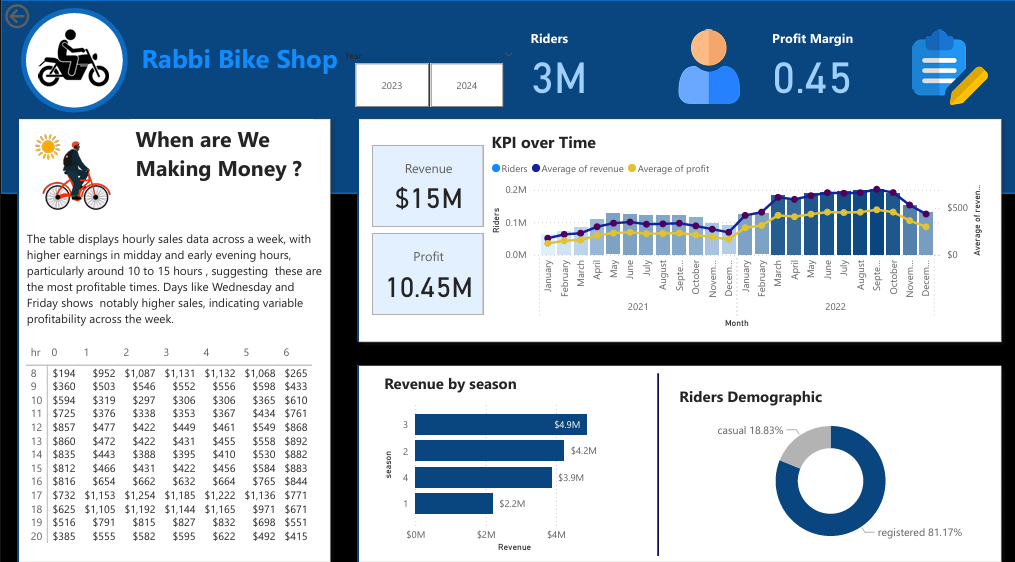

This screenshot's page, from the dashboard's own definition file:
{"tool":"powerbi","page":{"name":"Page 1","canvas":[1280,720],"ordinal":0},"visuals":[{"type":"shape","box":[0,0,1269.5,240.5],"z":0},{"type":"cardVisual","fields":{"Data":["Query1.riders"]},"box":[3.9,131.4,425.5,588.2],"z":1000},{"type":"cardVisual","fields":{"Data":["Query1.riders"]},"box":[429.4,131.4,839.2,313.7],"z":2000},{"type":"cardVisual","fields":{"Data":["Query1.riders"]},"box":[19.6,149,143.1,127.5],"z":3000},{"type":"pivotTable","fields":{"Values":["Query1.revenue"],"Columns":["Query1.weekday"],"Rows":["Query1.hr"]},"box":[26.7,425,381.7,273.3],"z":4000},{"type":"cardVisual","fields":{"Data":["Query1.riders"]},"box":[429.4,439.2,839.2,280.4],"z":5000},{"type":"textbox","box":[162.7,149,227.5,109.8],"z":6000},{"type":"textbox","box":[27.5,282.4,380.4,143.1],"z":7000},{"type":"lineClusteredColumnComboChart","title":"KPI over Time","fields":{"Y":["Query1.riders"],"Category":["Query1.dteday.Variation.Date Hierarchy.Year","Query1.dteday.Variation.Date Hierarchy.Month"],"Y2":["Query1.revenue","Query1.profit"]},"box":[607.8,162.7,623.5,251],"z":8000},{"type":"actionButton","box":[0,0,100,40],"z":9000},{"type":"clusteredBarChart","fields":{"Category":["Query1.season"],"Y":["Query1.revenue"]},"box":[473.8,466.2,309.2,227.7],"z":10000},{"type":"donutChart","title":"Riders  Demographic","fields":{"Category":["Query1.rider_type"],"Y":["Query1.riders"]},"box":[843.1,482.4,388.2,211.8],"z":11000},{"type":"shape","box":[800,466.2,43.1,227.7],"z":12000},{"type":"cardVisual","fields":{"Data":["Query1.revenue","Query1.profit"]},"box":[458.8,176.5,149,223.5],"z":13000},{"type":"cardVisual","fields":{"Data":["Query1.riders","Query1.Profit Margin"]},"box":[645.1,19.6,607.8,119.6],"z":14000},{"type":"shape","box":[25,10,133.3,130],"z":15000},{"type":"image","box":[41.7,20,98.3,103.3],"z":16000},{"type":"textbox","box":[163.3,45,270,60],"z":17000},{"type":"slicer","fields":{"Values":["Query1.Custom"]},"box":[416.7,58.3,235,81.7],"z":18000}]}

Visuals, with their boxes in screenshot pixels (x1, y1, x2, y2), scaled from the page's 1280x720 canvas onto the 1015x562 screenshot:
shape: 0, 0, 1007, 188
cardVisual - Query1.riders: 3, 103, 341, 561
cardVisual - Query1.riders: 341, 103, 1006, 347
cardVisual - Query1.riders: 16, 116, 129, 216
pivotTable - Query1.revenue x Query1.weekday: 21, 332, 324, 545
cardVisual - Query1.riders: 341, 343, 1006, 561
textbox: 129, 116, 309, 202
textbox: 22, 220, 323, 332
"KPI over Time" lineClusteredColumnComboChart: 482, 127, 976, 323
actionButton: 0, 0, 79, 31
clusteredBarChart - Query1.season x Query1.revenue: 376, 364, 621, 542
"Riders  Demographic" donutChart: 669, 377, 976, 542
shape: 634, 364, 669, 542
cardVisual - Query1.revenue x Query1.profit: 364, 138, 482, 312
cardVisual - Query1.riders x Query1.Profit Margin: 512, 15, 994, 109
shape: 20, 8, 126, 109
image: 33, 16, 111, 96
textbox: 129, 35, 344, 82
slicer - Query1.Custom: 330, 46, 517, 109
